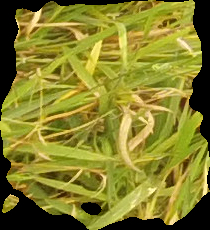grass: (1, 1, 209, 228)
